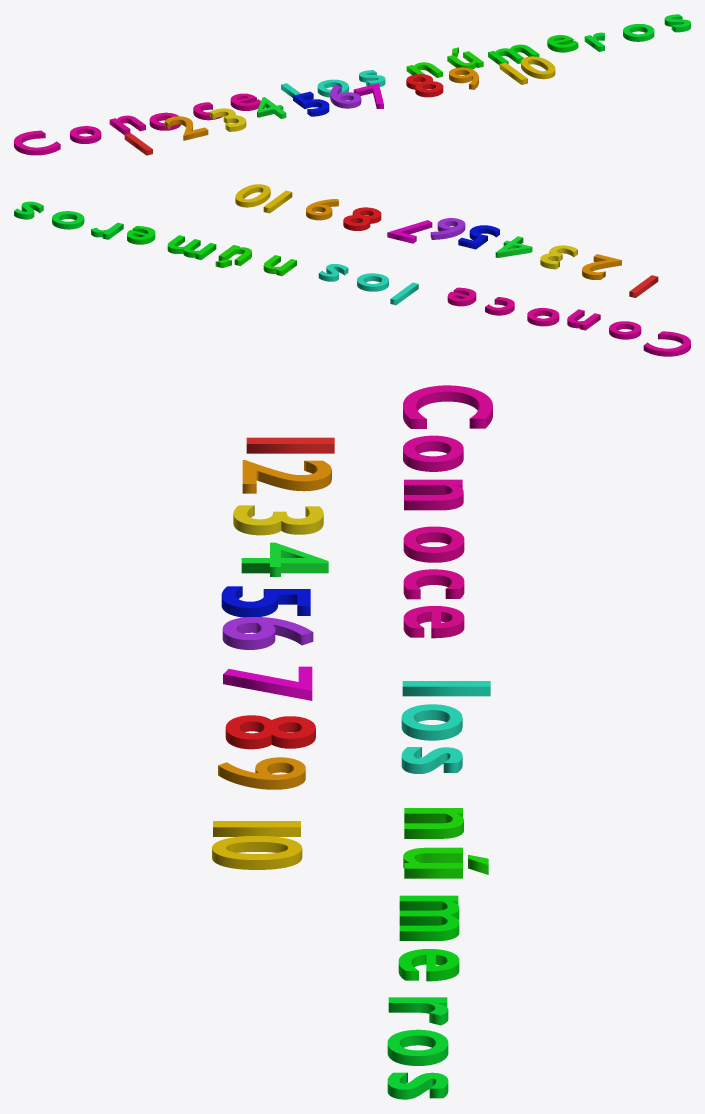
File: asset.glb
3 renders of one model, top to bottom at view 1: azimuth 30°, elevation 25°; view 2: azimuth 150°, elevation 25°; view 3: azimuth 270°, elevation 25°, orthographic. The views are drawn at different scales.
Visible parts, largest first — view 1: Text.005, Text.010, Text.007, Text.009, Text.016, Text.008, Text.006, Text.014, Text.004, Text.011, Text.012, Text.002 (+4 smaller); view 2: Text.005, Text.007, Text.010, Text.008, Text.009, Text.006, Text.016, Text.014, Text.002, Text.004, Text.012, Text.011 (+4 smaller); view 3: Text.005, Text.007, Text.008, Text.010, Text.009, Text.016, Text.006, Text.014, Text.012, Text.015, Text.002, Text.011 (+4 smaller).
Part boxes in pixels (box(x1,y1,x2,y2)): Text.005: box(14, 115, 145, 155); Text.010: box(584, 14, 690, 51); Text.007: box(149, 93, 260, 130); Text.009: box(488, 35, 578, 65); Text.016: box(499, 56, 555, 84); Text.008: box(281, 70, 385, 97); Text.006: box(406, 47, 483, 77); Text.014: box(406, 74, 443, 97); Text.004: box(293, 91, 329, 116); Text.011: box(210, 108, 246, 131); Text.012: box(330, 85, 361, 108); Text.002: box(164, 116, 208, 140); Text.005: box(567, 309, 690, 356); Text.007: box(447, 287, 559, 326); Text.010: box(14, 201, 123, 239); Text.008: box(318, 264, 418, 305); Text.009: box(127, 226, 216, 259); Text.006: box(215, 245, 296, 276); Text.016: box(235, 184, 292, 213); Text.014: box(343, 207, 381, 230); Text.002: box(582, 254, 621, 279); Text.004: box(458, 225, 499, 249); Text.012: box(430, 218, 465, 239); Text.011: box(540, 245, 577, 269); Text.005: box(403, 385, 492, 510); Text.007: box(403, 526, 464, 638); Text.008: box(401, 681, 490, 773); Text.010: box(387, 997, 448, 1099); Text.009: box(398, 895, 459, 981); Text.016: box(212, 821, 302, 869); Text.006: box(403, 808, 488, 878); Text.014: box(225, 715, 315, 749); Text.012: box(222, 617, 313, 649); Text.015: box(218, 757, 305, 789); Text.002: box(242, 460, 331, 493); Text.011: box(233, 505, 323, 535).
Bounding box in the file's own units: 14 × 1.07 × 2.57.
